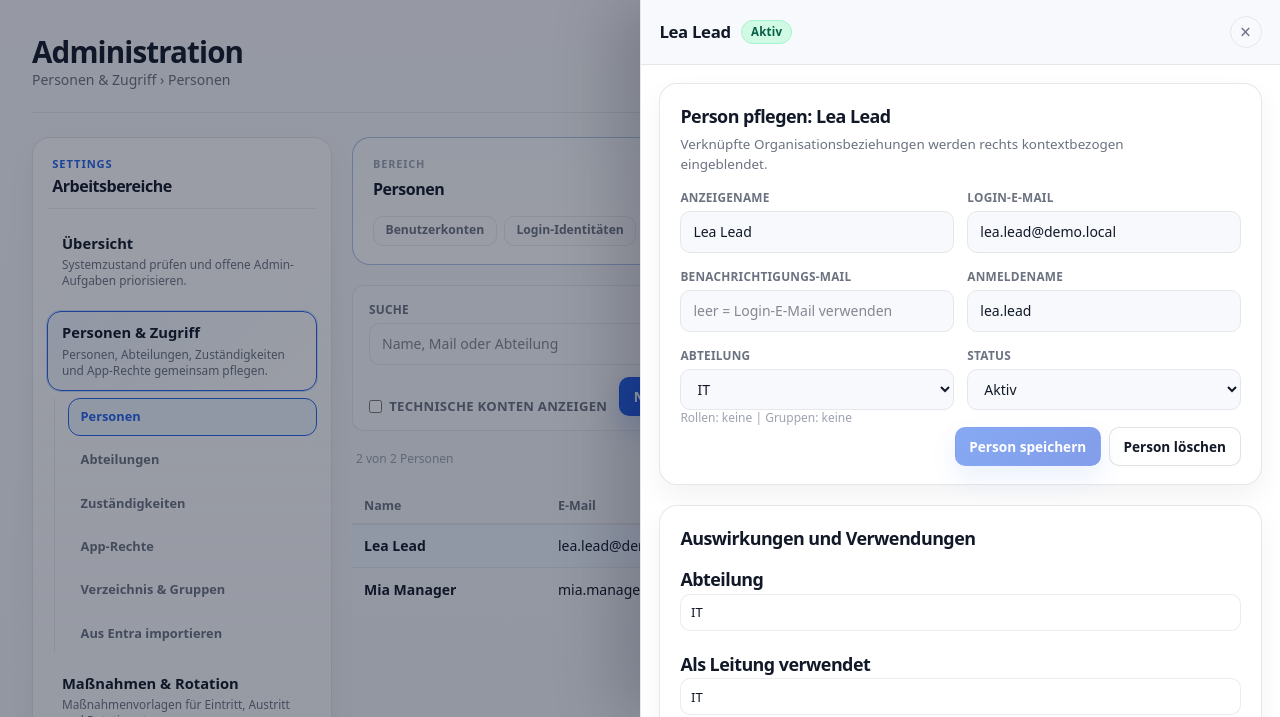
Test: AdminConfigPage › navigates from a user relation to the linked department without leaving the page
Expected: the heading "Person pflegen: Lea Lead" is shown, [680, 104, 891, 128]
What coordinates should you click on to do the following:
click the 1st button "IT"
I would click on:
 (697, 612)
Its box is [680, 594, 1241, 631].
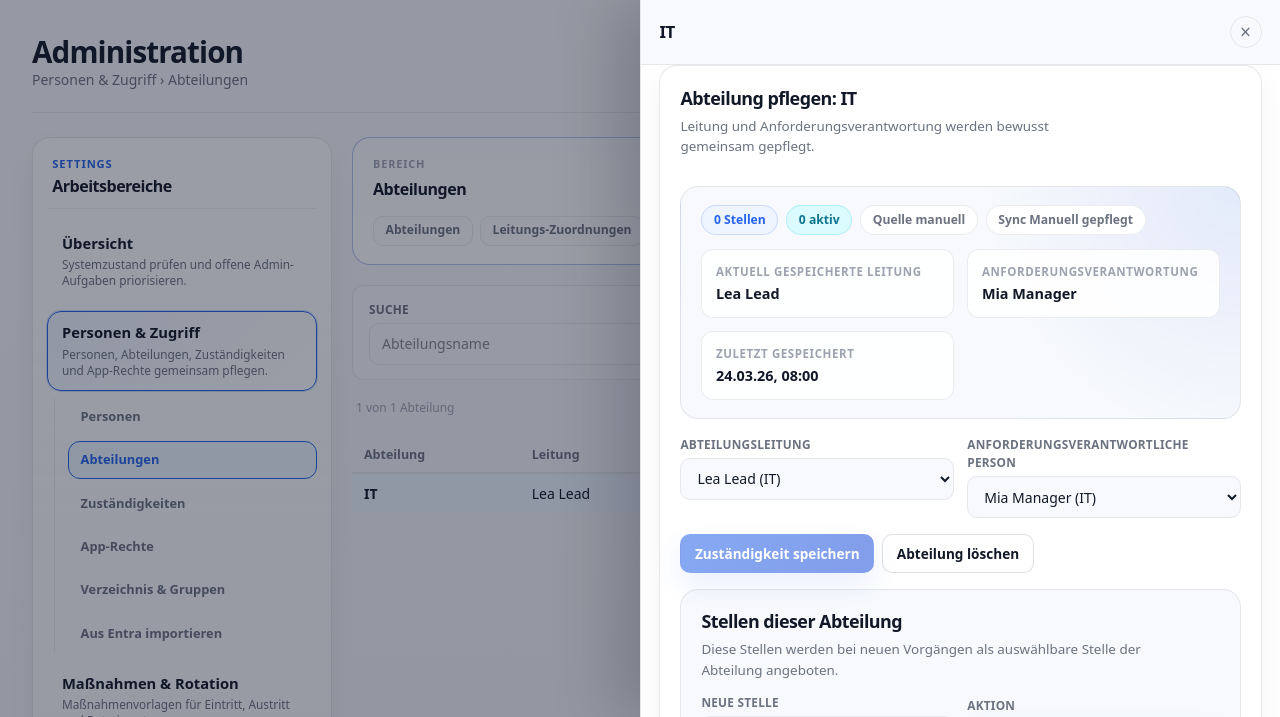
Now the heading "Abteilung pflegen: IT" is shown, box [680, 86, 857, 110]
